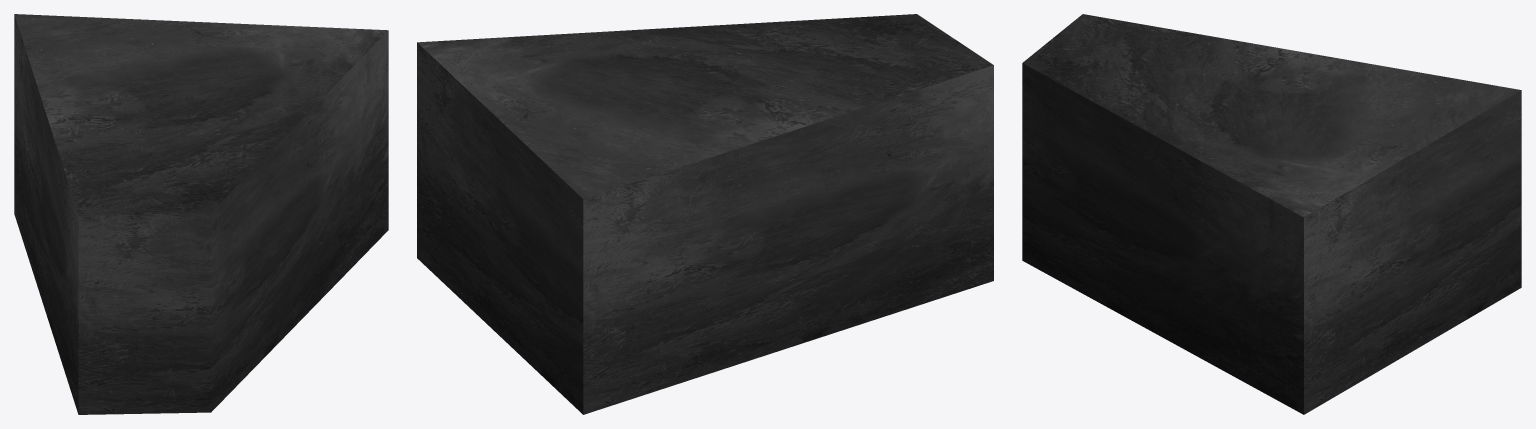
Rendered from noir10.FBX.
The picture shows the model from 3 angles, left to right: view 1: azimuth 30°, elevation 25°; view 2: azimuth 150°, elevation 25°; view 3: azimuth 270°, elevation 25°; orthographic projection. The views are drawn at different scales.
Visible parts, largest first — view 1: Ligne002; view 2: Ligne002; view 3: Ligne002.
Part boxes in pixels (bbox=[...]): Ligne002: bbox=[14, 14, 388, 414]; Ligne002: bbox=[417, 14, 993, 414]; Ligne002: bbox=[1022, 14, 1521, 414].
Size of the model in its own units: 8.56 by 3.87 by 8.88.
Materials: 1 (1 with a texture image).
